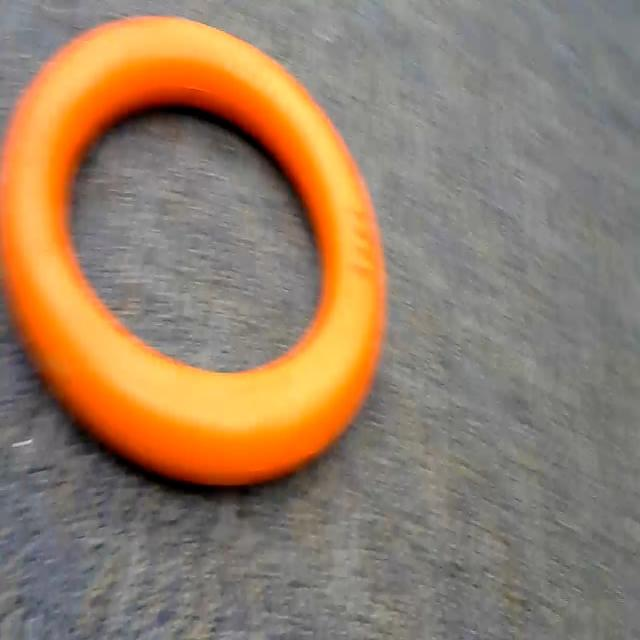note: (1, 0, 390, 492)
